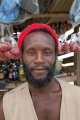male: (19, 29, 59, 86)
